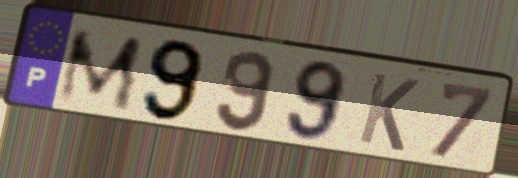7: (431, 78, 498, 164)
9: (138, 37, 210, 124), (285, 58, 353, 146), (215, 47, 278, 135)
K: (354, 69, 423, 155)
M: (53, 28, 148, 114)
